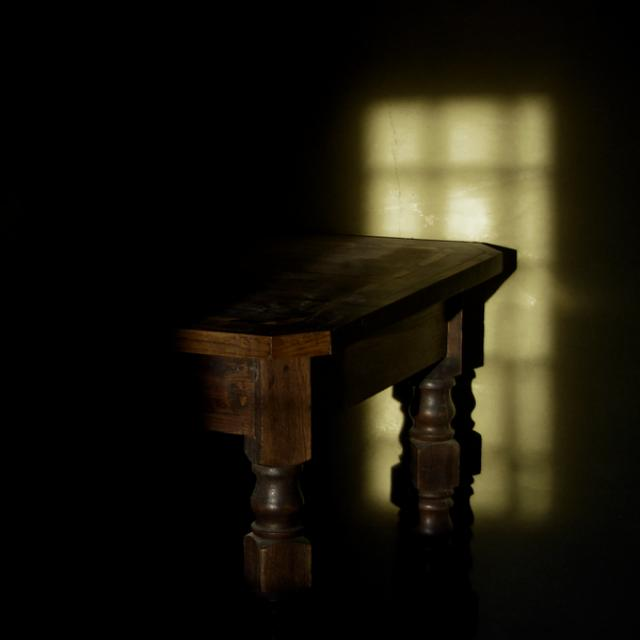Table: (0, 250, 532, 567)
